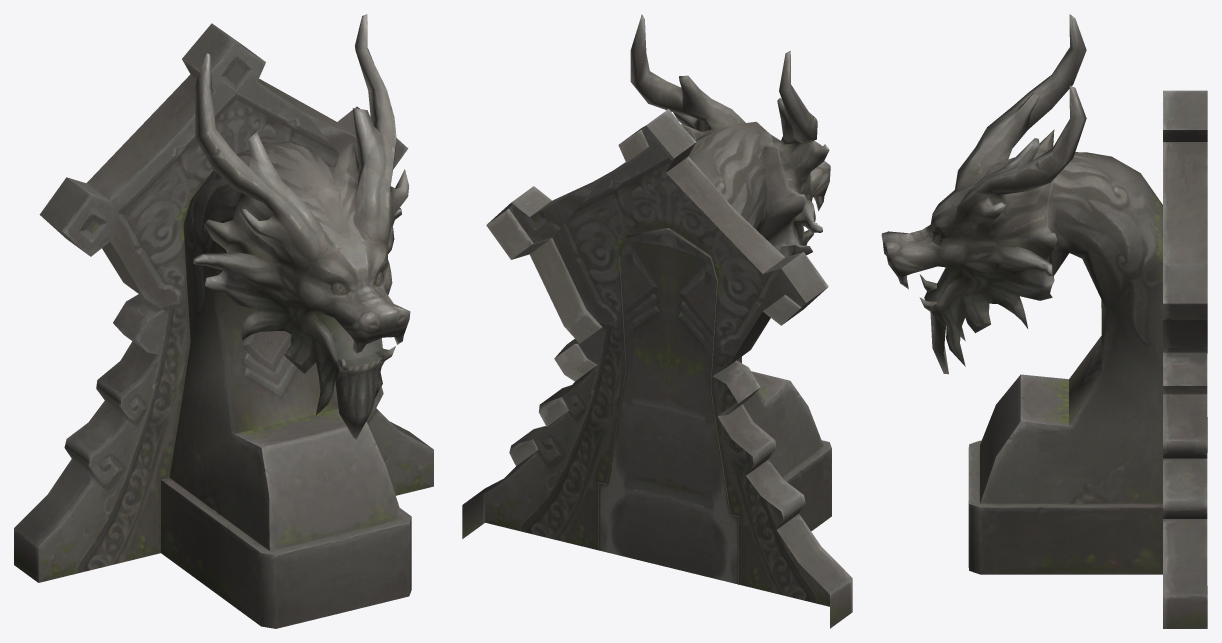
File: cj_luoyang_longtou01_55_23_1597out.fbx
The picture shows the model from 3 angles, left to right: view 1: azimuth 30°, elevation 25°; view 2: azimuth 150°, elevation 25°; view 3: azimuth 270°, elevation 25°; orthographic projection. The views are drawn at different scales.
Parts seen in each view (by area): view 1: cj_luoyang_longtou01; view 2: cj_luoyang_longtou01; view 3: cj_luoyang_longtou01.
Boxes of the visible parts, left/top/right/bottom form: cj_luoyang_longtou01: left=14, top=14, right=433, bottom=628; cj_luoyang_longtou01: left=462, top=14, right=852, bottom=628; cj_luoyang_longtou01: left=881, top=14, right=1207, bottom=628.
Size of the model in its own units: 5.92 by 7.7 by 4.63.
